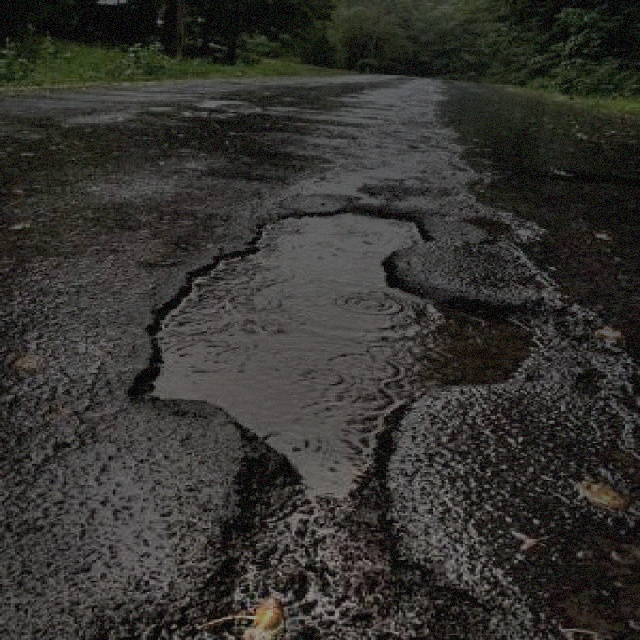pothole: (119, 200, 540, 493)
